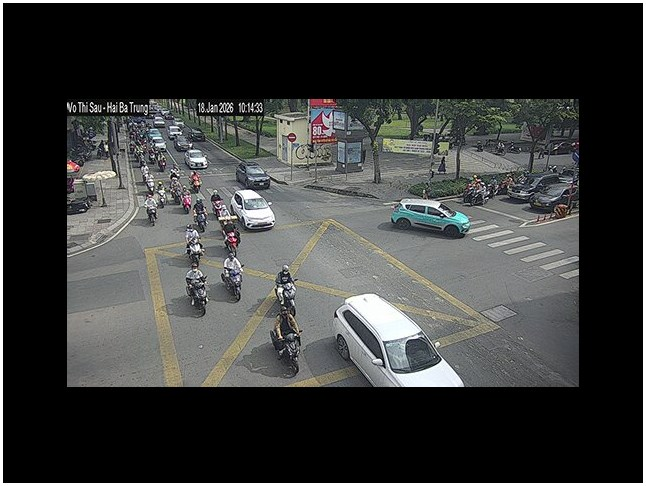car: (333, 292, 465, 383), (390, 198, 471, 238), (229, 189, 276, 231), (528, 182, 577, 215), (235, 161, 271, 189), (184, 149, 208, 169)
motorbike: (269, 301, 302, 375), (184, 266, 209, 316), (220, 254, 244, 302), (145, 202, 158, 226)
